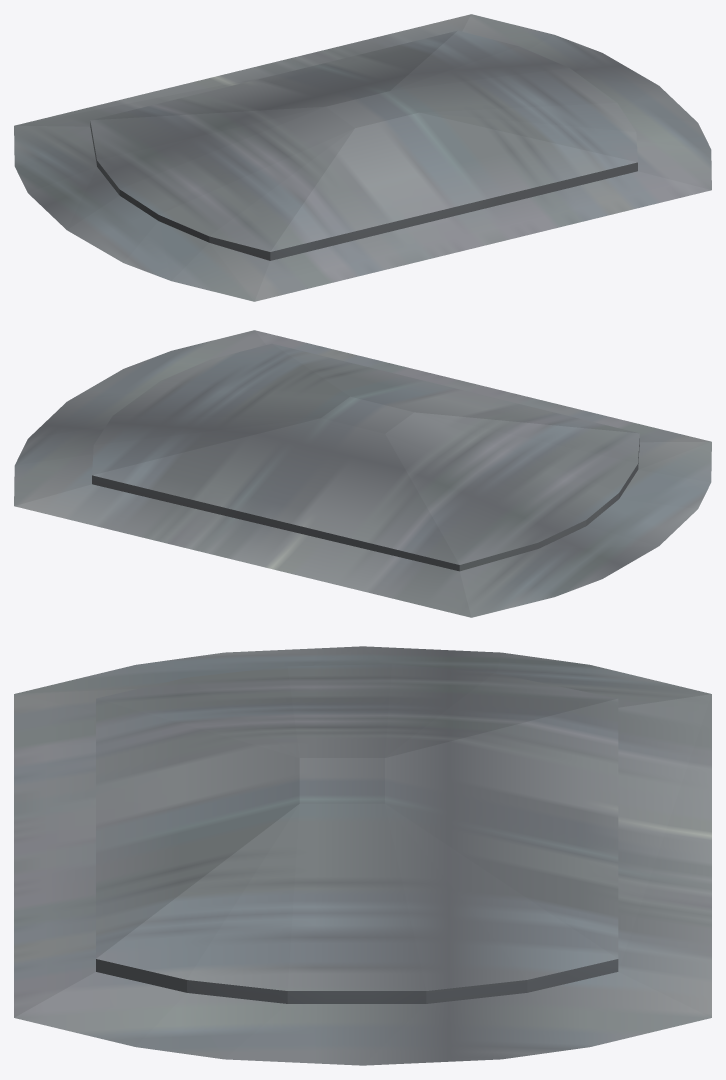
File: lodstadiumroof_sfs.obj
3 views of the same model, one above another, from view 1: azimuth 30°, elevation 25°; view 2: azimuth 150°, elevation 25°; view 3: azimuth 270°, elevation 25° (orthographic). The views are drawn at different scales.
Visible parts, largest first — view 1: LODstadiumroof_SFS; view 2: LODstadiumroof_SFS; view 3: LODstadiumroof_SFS.
Part boxes in pixels (<box>): LODstadiumroof_SFS: <box>14,14,711,301</box>; LODstadiumroof_SFS: <box>14,330,711,617</box>; LODstadiumroof_SFS: <box>14,646,711,1065</box>.
Bounding box in the file's own units: 160 × 13.63 × 112.
1 material, 1 textured.
